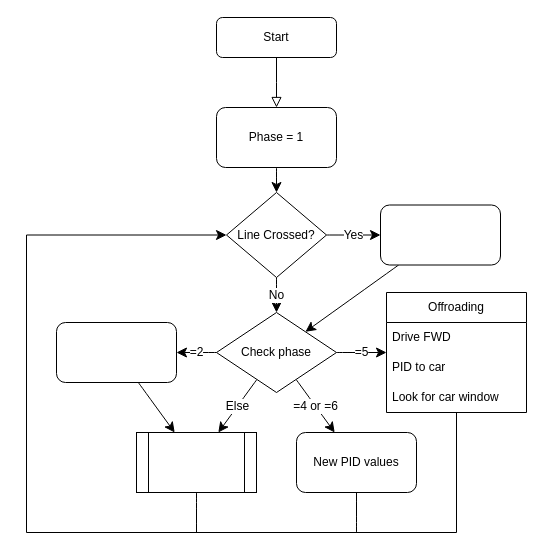
The diagram is 544 pixels wide and 560 high, and some of its shapes have lost their labels. The centre of each missing label's shape, as x and y in pixels:
Follow the road: point (196, 462)
Phase += 1: point (440, 234)
Wait for pedestrian: point (116, 352)
